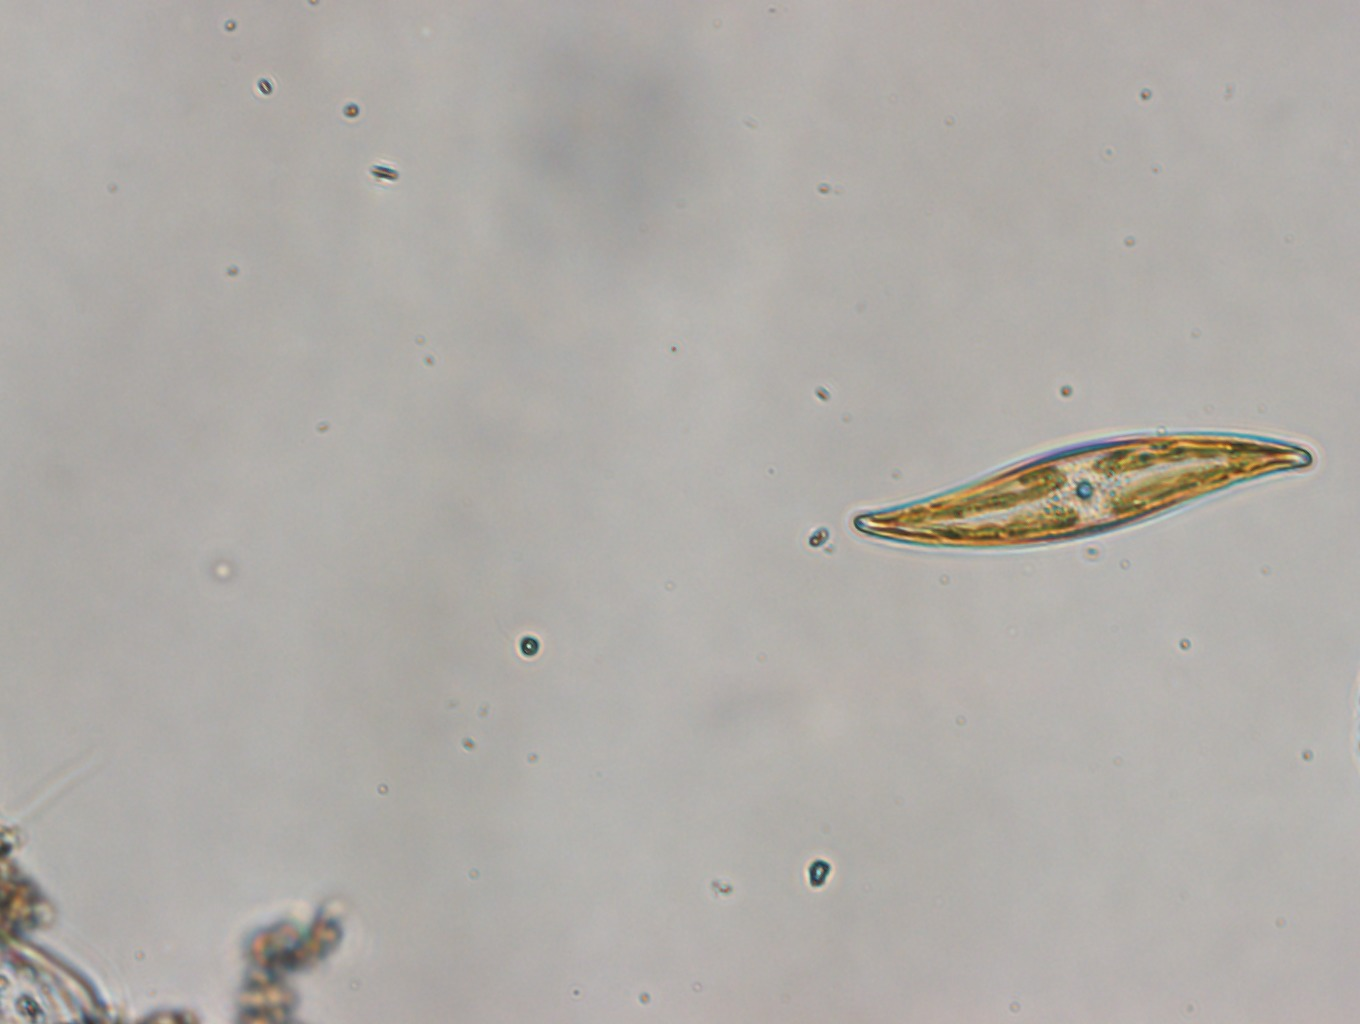pleurosigma pelagicum: (851, 427, 1314, 554)
